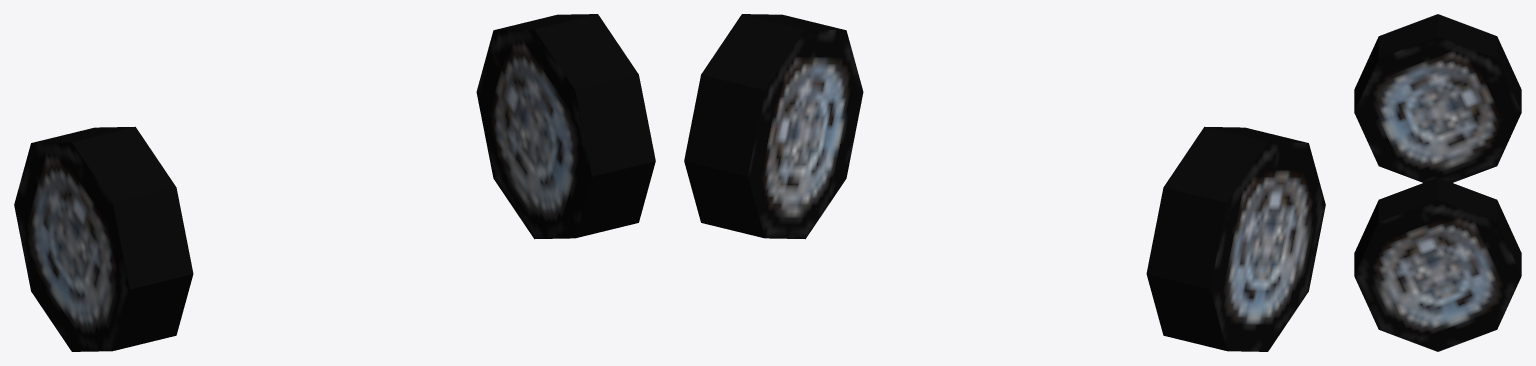
The model's file is gto_66_wheels_f.obj.
The picture shows the model from 3 angles, left to right: view 1: azimuth 30°, elevation 25°; view 2: azimuth 150°, elevation 25°; view 3: azimuth 270°, elevation 25°; orthographic projection. The views are drawn at different scales.
Visible parts, largest first — view 1: gto_66_wheels_f; view 2: gto_66_wheels_f; view 3: gto_66_wheels_f.
Part boxes in pixels (x1,y1,x2,y2): gto_66_wheels_f: (14, 14, 655, 351); gto_66_wheels_f: (684, 14, 1325, 351); gto_66_wheels_f: (1354, 14, 1521, 351).
Bounding box in the file's own units: 1.77 × 0.6749 × 0.6749.
1 material, 1 textured.
